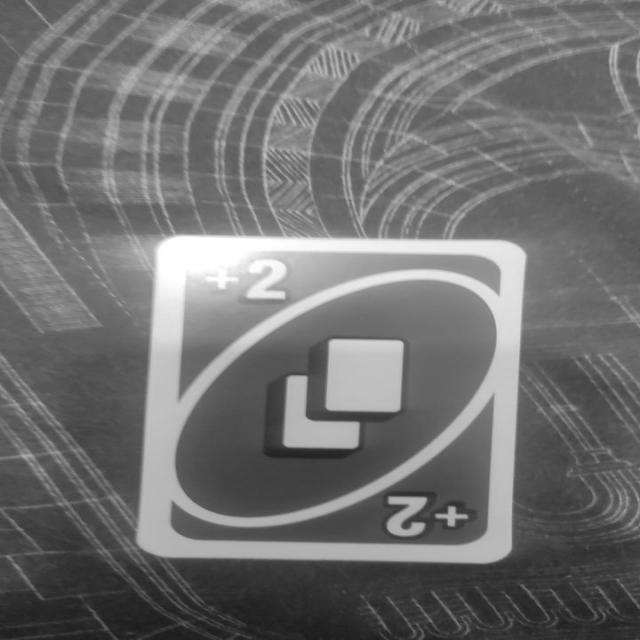card_2-: (134, 235, 526, 564)
